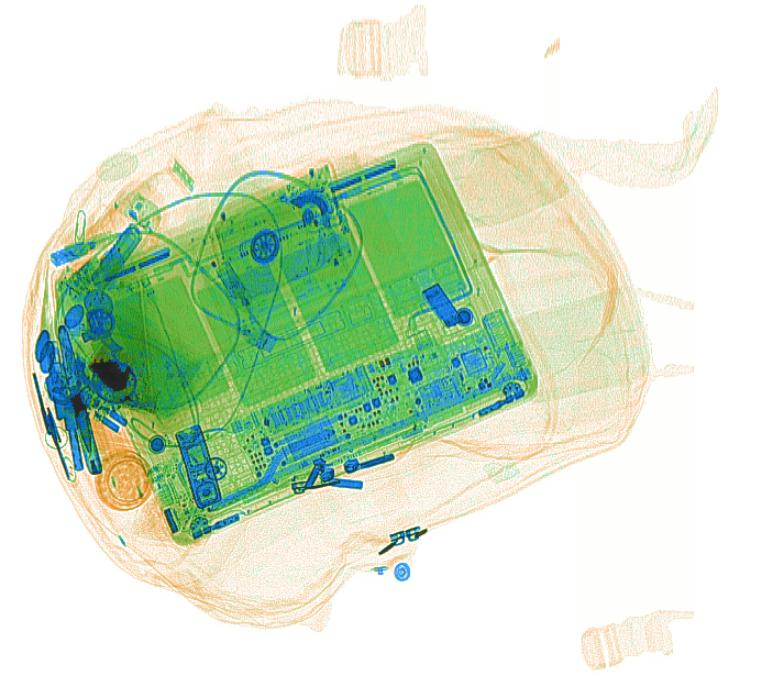battery: (88, 223, 141, 295)
